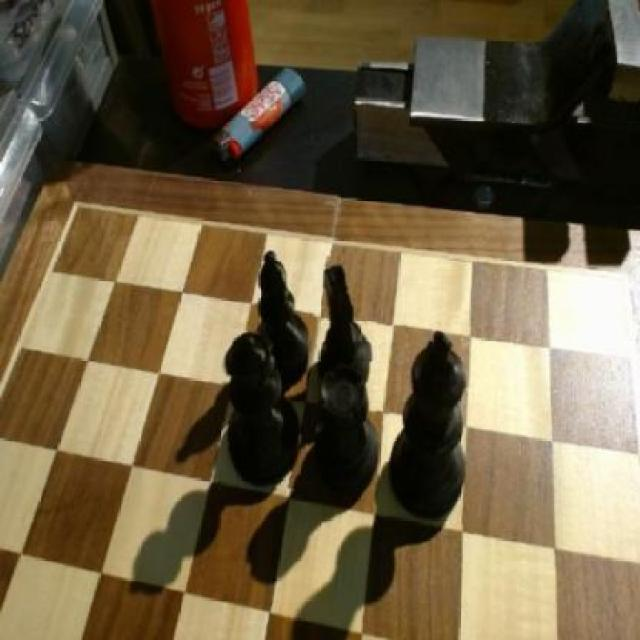bishop: (254, 248, 313, 378)
black-bishop: (389, 326, 476, 524)
black-king: (312, 253, 380, 394)
black-pawn: (220, 330, 308, 488)
black-queen: (309, 362, 388, 492)
